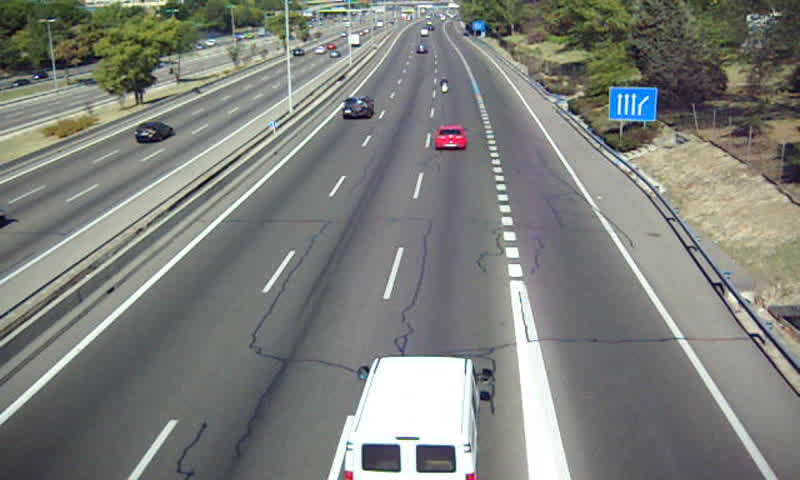car: (435, 124, 466, 150), (341, 96, 374, 119)
motorcycle: (438, 76, 451, 93)
van: (350, 355, 474, 480)
